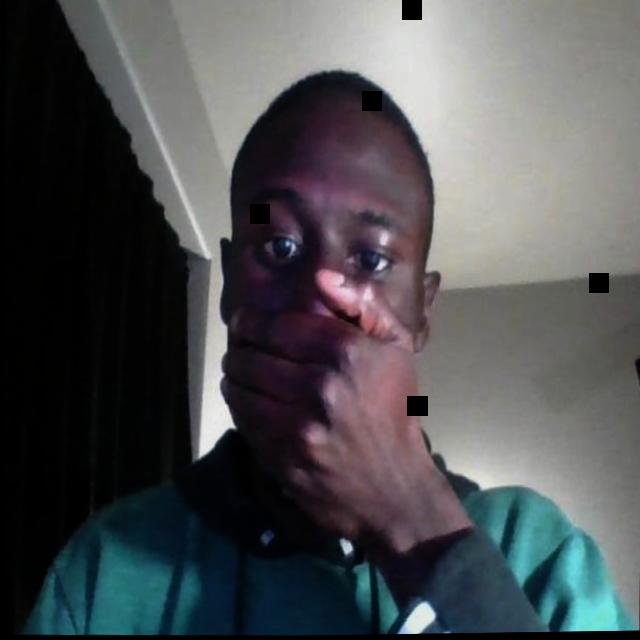NO-Mask: (223, 159, 427, 352)
